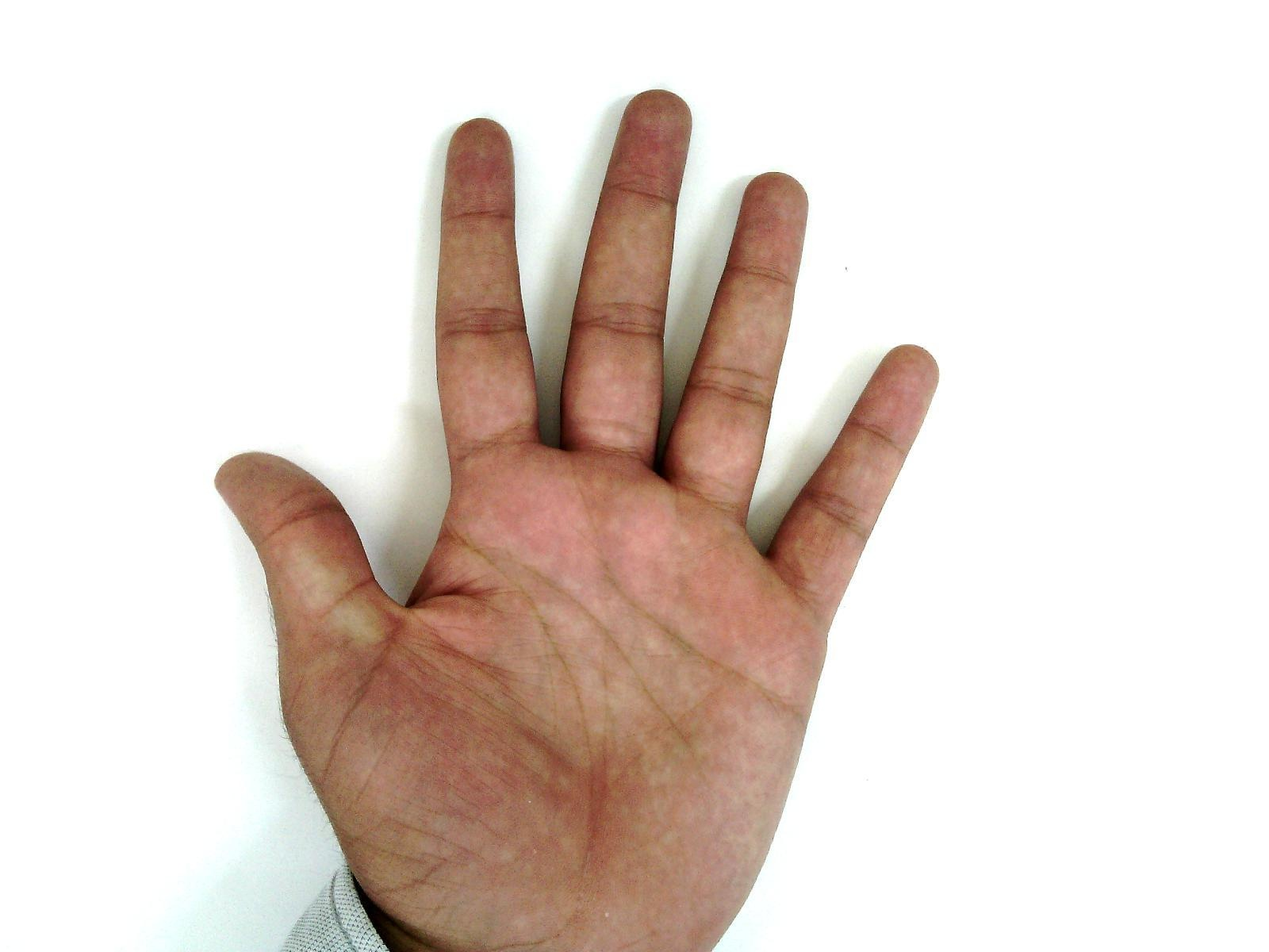open_palm: (212, 88, 943, 951)
